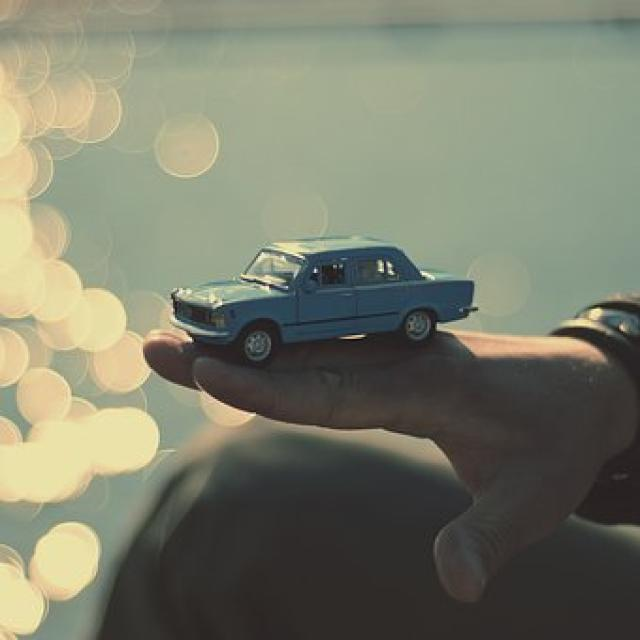Car: (168, 232, 478, 365)
